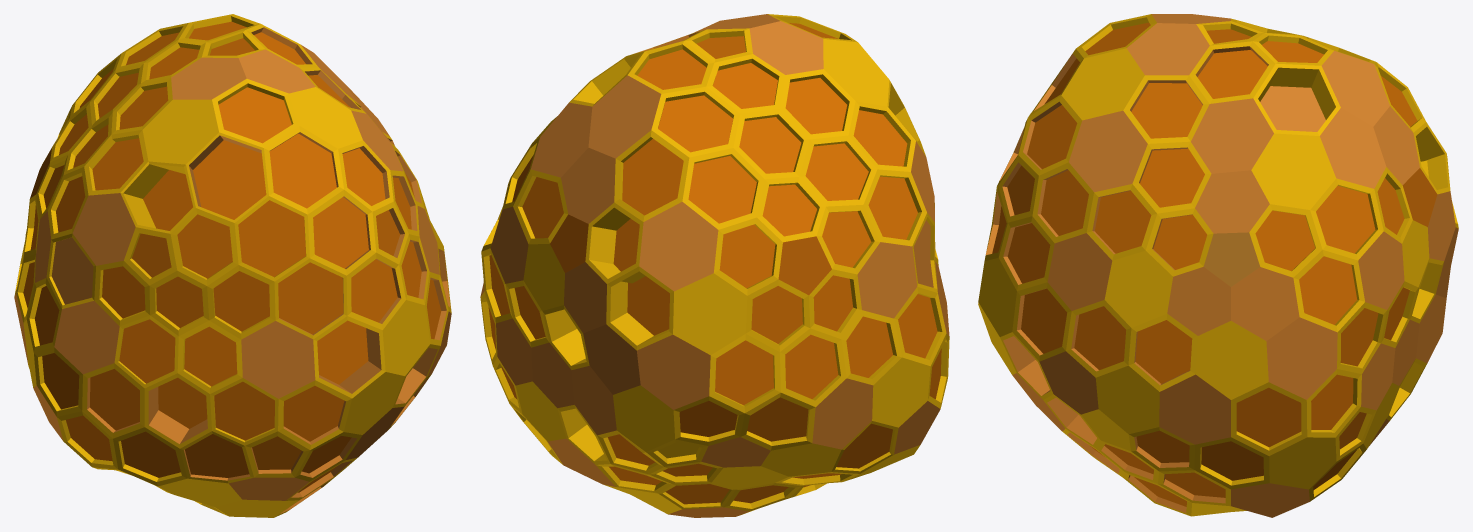
The model's file is Ruche.fbx.
3 renders of one model, left to right at view 1: azimuth 30°, elevation 25°; view 2: azimuth 150°, elevation 25°; view 3: azimuth 270°, elevation 25°, orthographic. The views are drawn at different scales.
Visible parts, largest first — view 1: Hive; view 2: Hive; view 3: Hive.
Part boxes in pixels (bbox=[...]): Hive: bbox=[14, 14, 451, 517]; Hive: bbox=[480, 14, 949, 517]; Hive: bbox=[978, 14, 1458, 517].
Size of the model in its own units: 619 by 680 by 633.
